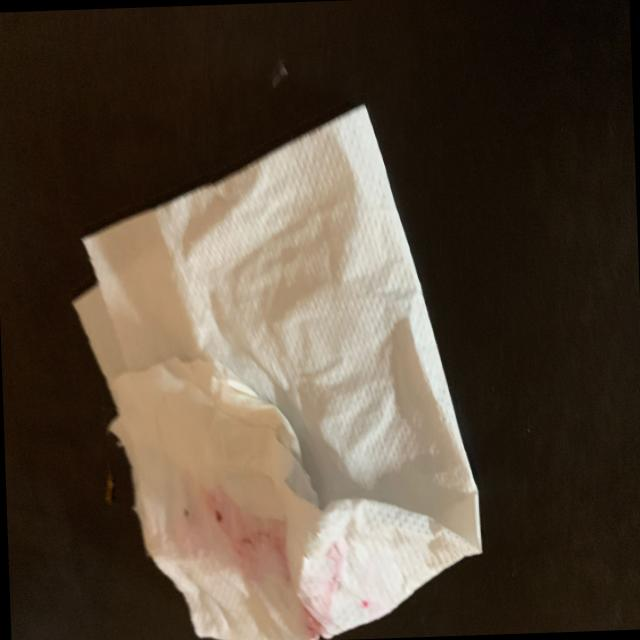organic waste: (57, 98, 487, 640)
